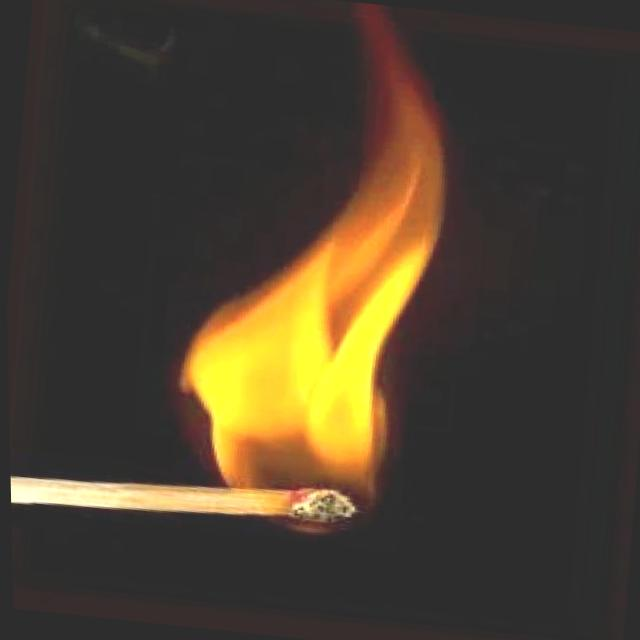Fire: (172, 0, 477, 543)
